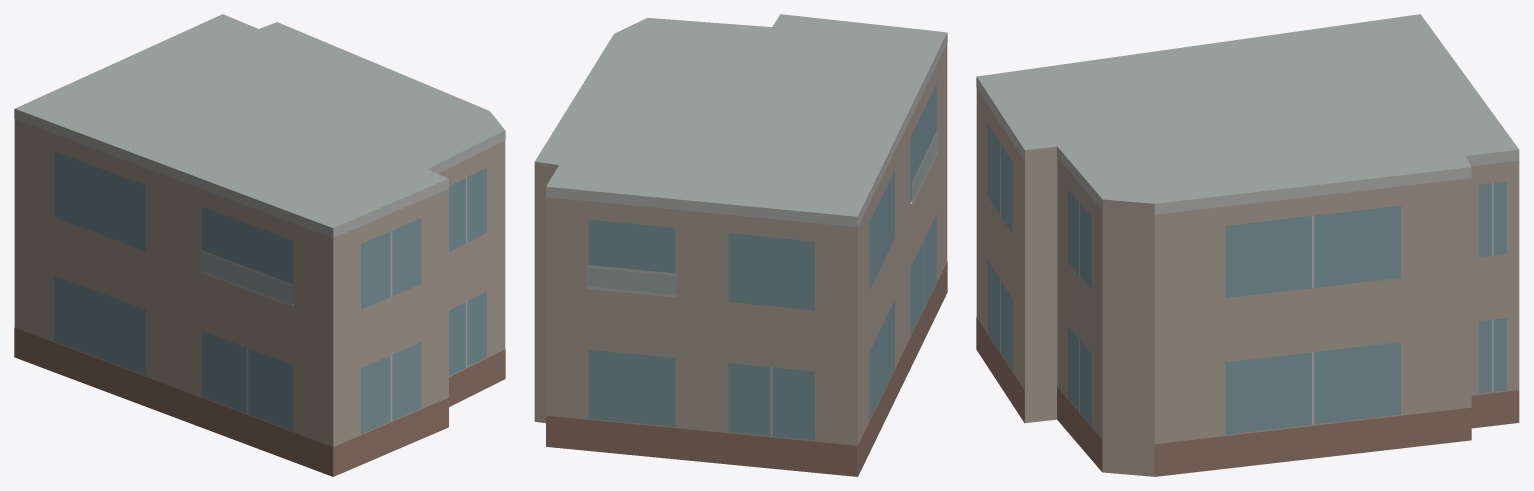
The model's file is survey-upis-32720723.glb.
3 views of the same model, side by side, from view 1: azimuth 30°, elevation 25°; view 2: azimuth 150°, elevation 25°; view 3: azimuth 270°, elevation 25° (orthographic). The views are drawn at different scales.
Visible parts, largest first — view 1: survey-upis-32720723.tmp; view 2: survey-upis-32720723.tmp; view 3: survey-upis-32720723.tmp.
Boxes of the visible parts, left/top/right/bottom form: survey-upis-32720723.tmp: left=14, top=14, right=505, bottom=476; survey-upis-32720723.tmp: left=534, top=14, right=947, bottom=476; survey-upis-32720723.tmp: left=976, top=14, right=1519, bottom=476.
Size of the model in its own units: 9.1 by 6.1 by 11.
